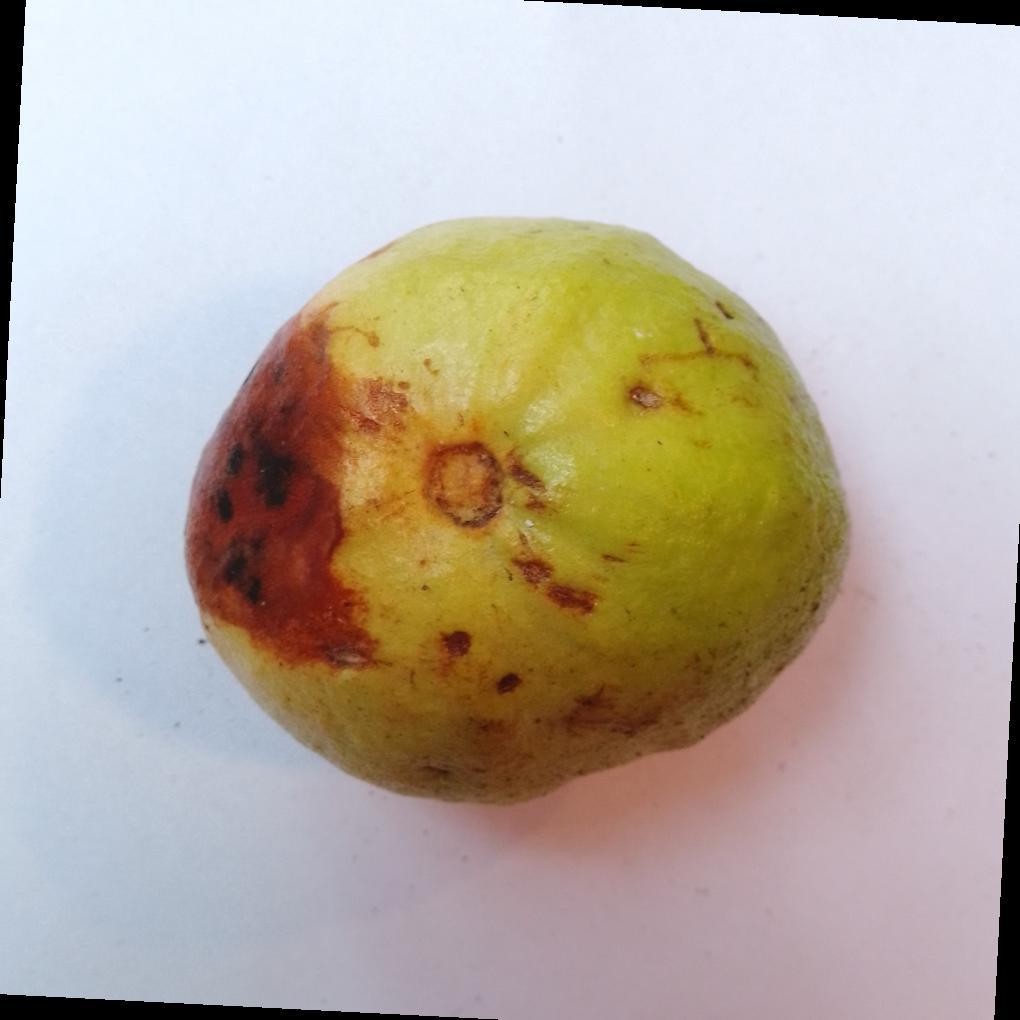FreshOrange: (182, 217, 852, 810)
